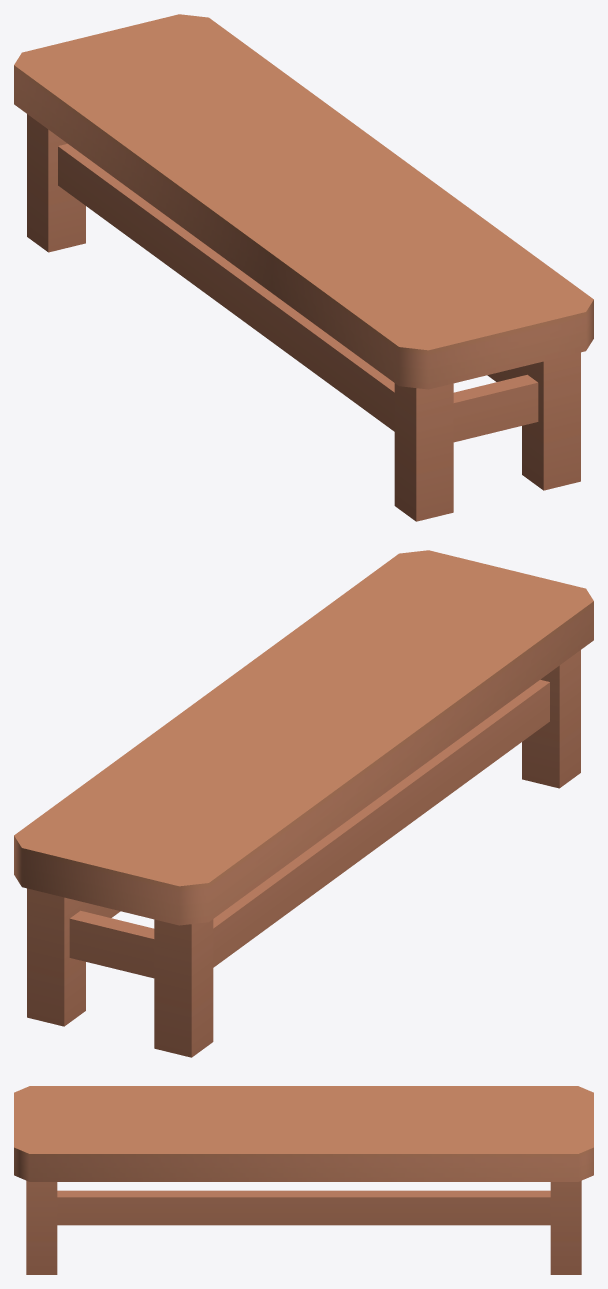
File: stall-bench.glb
3 renders of one model, top to bottom at view 1: azimuth 30°, elevation 25°; view 2: azimuth 150°, elevation 25°; view 3: azimuth 270°, elevation 25°, orthographic. The views are drawn at different scales.
Parts seen in each view (by area): view 1: stall-bench; view 2: stall-bench; view 3: stall-bench.
Boxes of the visible parts, box(x1,y1,x2,y2) form: stall-bench: box(14, 14, 593, 521); stall-bench: box(14, 550, 593, 1057); stall-bench: box(14, 1086, 593, 1274).
Size of the model in its own units: 0.2601 by 0.2255 by 0.94.
1 material, 1 textured.
